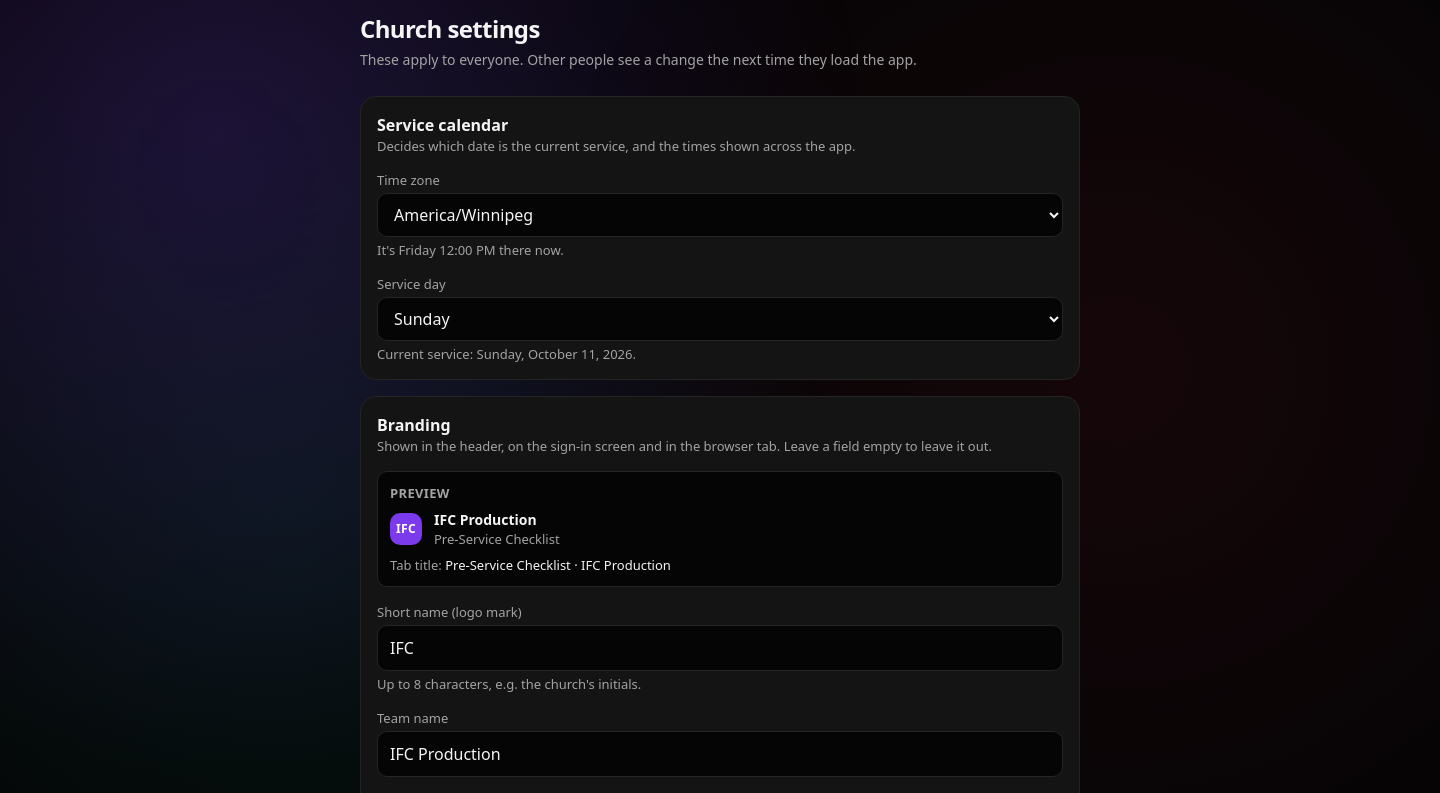
Test case: Settings page › saves branding: preview first, then the header refreshes
Expected: the heading "Church settings" is shown, [360, 12, 540, 45]
Replace the text in the field labelled "Team name" with "  Media Team ". click: (720,754)
box: [377, 731, 1063, 777]
(page scrolled)
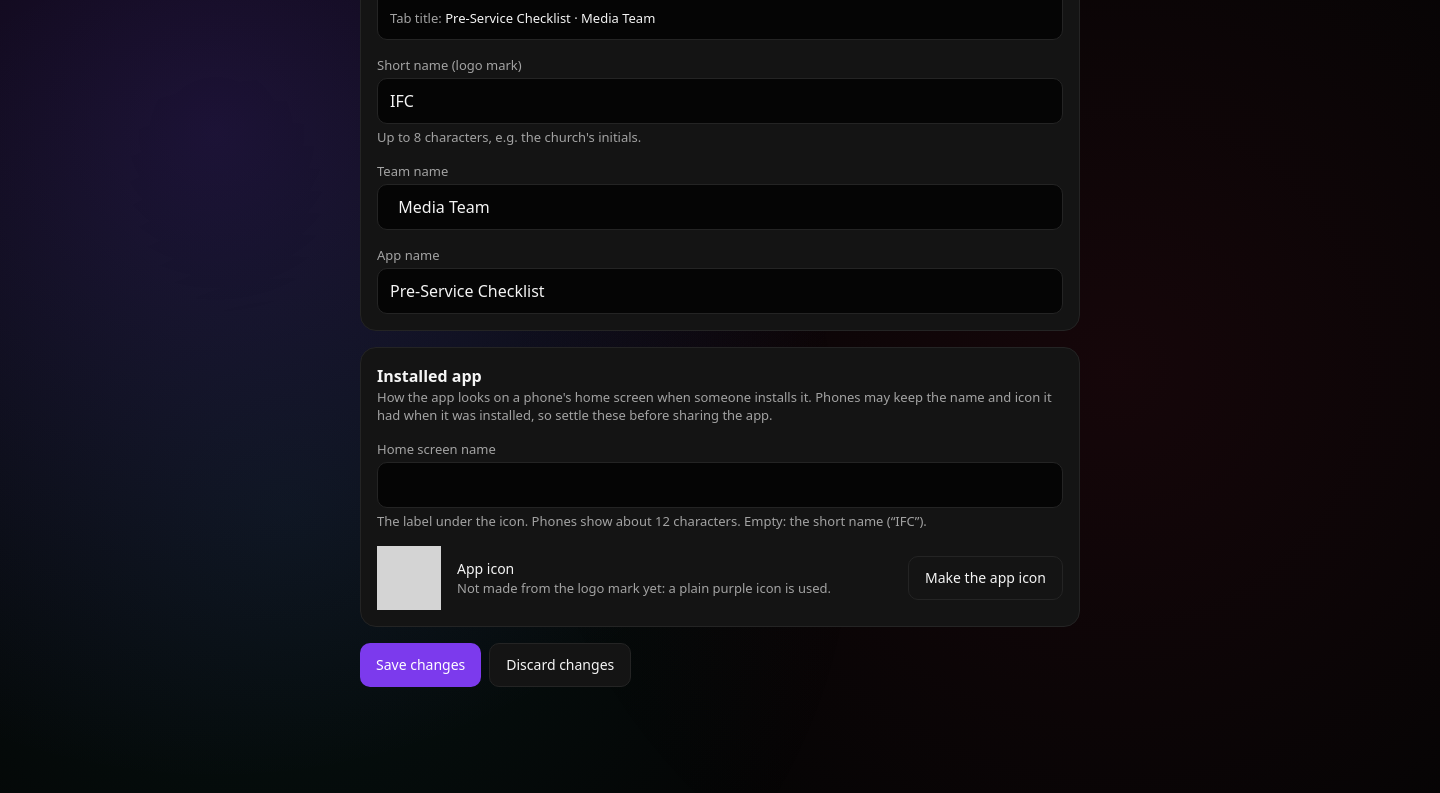
Expected: the button "Save changes" is enabled
Expected: the text "Pre-Service Checklist · Media Team" is shown, [445, 9, 655, 27]
Click the button "Save changes". click: (421,665)
box: [360, 643, 481, 687]
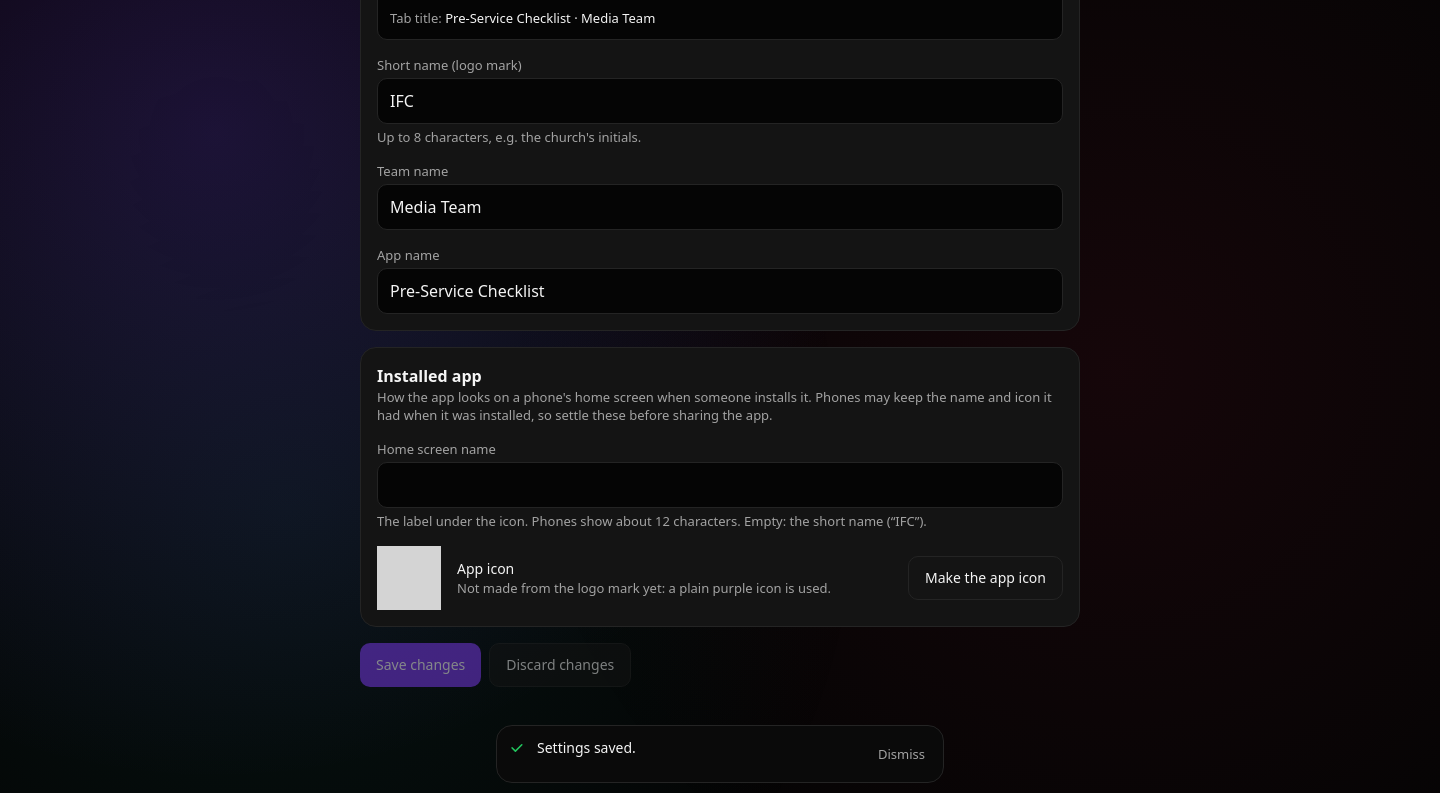
Expected: the text "Settings saved." is shown, [537, 738, 636, 757]
Expected: the button "Save changes" is disabled, [360, 643, 481, 687]
